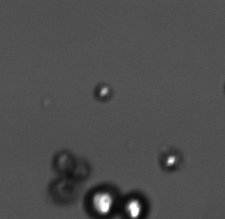Dead Cell: (51, 177, 79, 206), (53, 150, 74, 175), (74, 162, 89, 180)
Living Cell: (84, 183, 120, 219), (121, 192, 148, 219), (160, 148, 182, 172), (94, 83, 112, 102)
